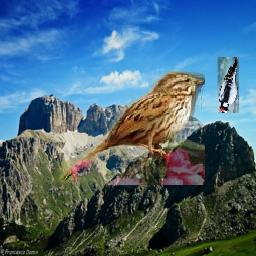Sparrow: (55, 69, 205, 186)
Woodpecker: (217, 57, 239, 113)
